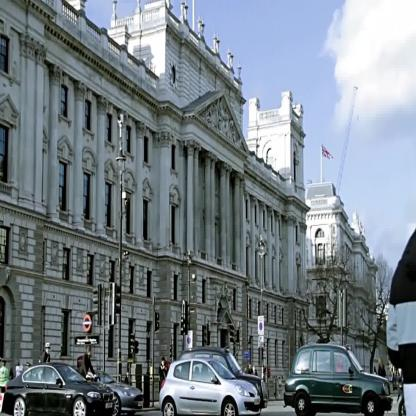car: (285, 346, 391, 416), (159, 360, 260, 416), (4, 366, 116, 416), (93, 370, 144, 416)
